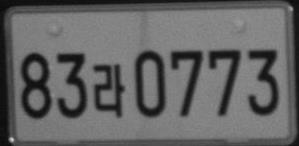0: (133, 49, 166, 118)
3: (247, 49, 279, 116), (56, 52, 87, 119)
7: (207, 48, 241, 116), (170, 49, 203, 117)
8: (19, 52, 52, 119)
라: (92, 63, 125, 118)
